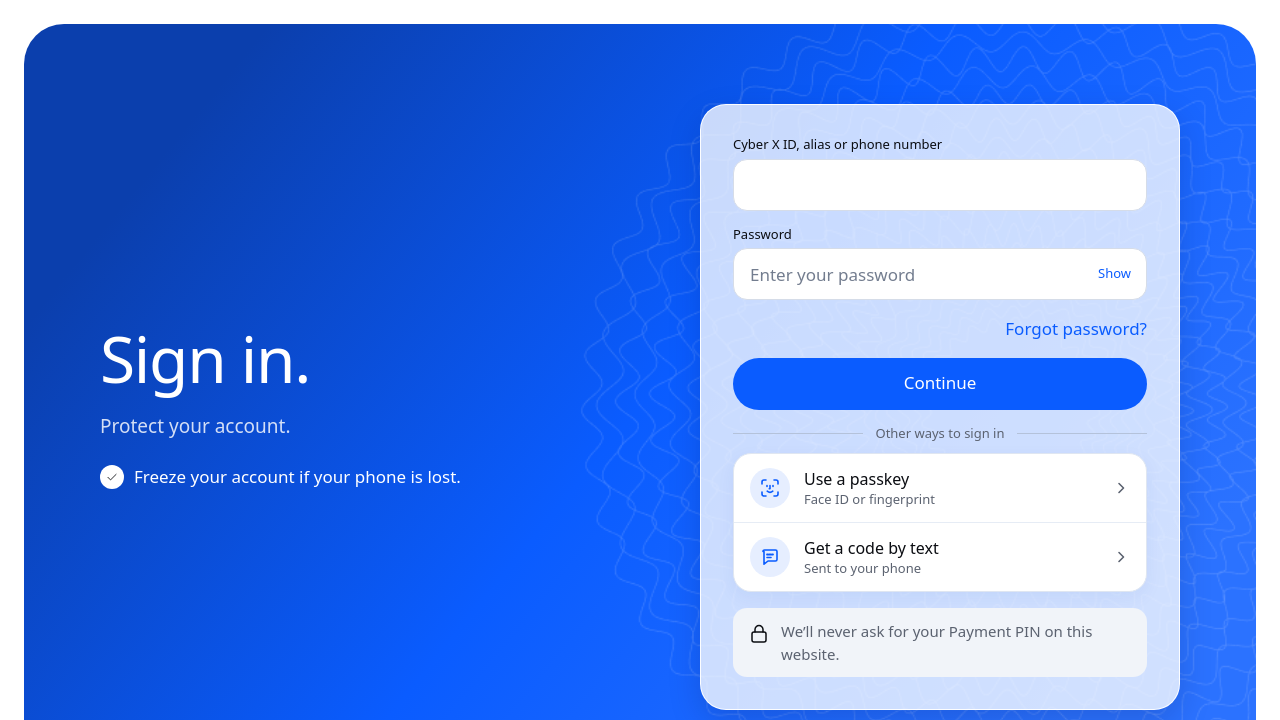
Test case: the sign-in card (W2.1) › resends a code, and goes back to the other ways
Type "0801 234 5678" into the field labelled "Cyber X ID, alias or phone number" at (940, 185), box [733, 159, 1147, 211]
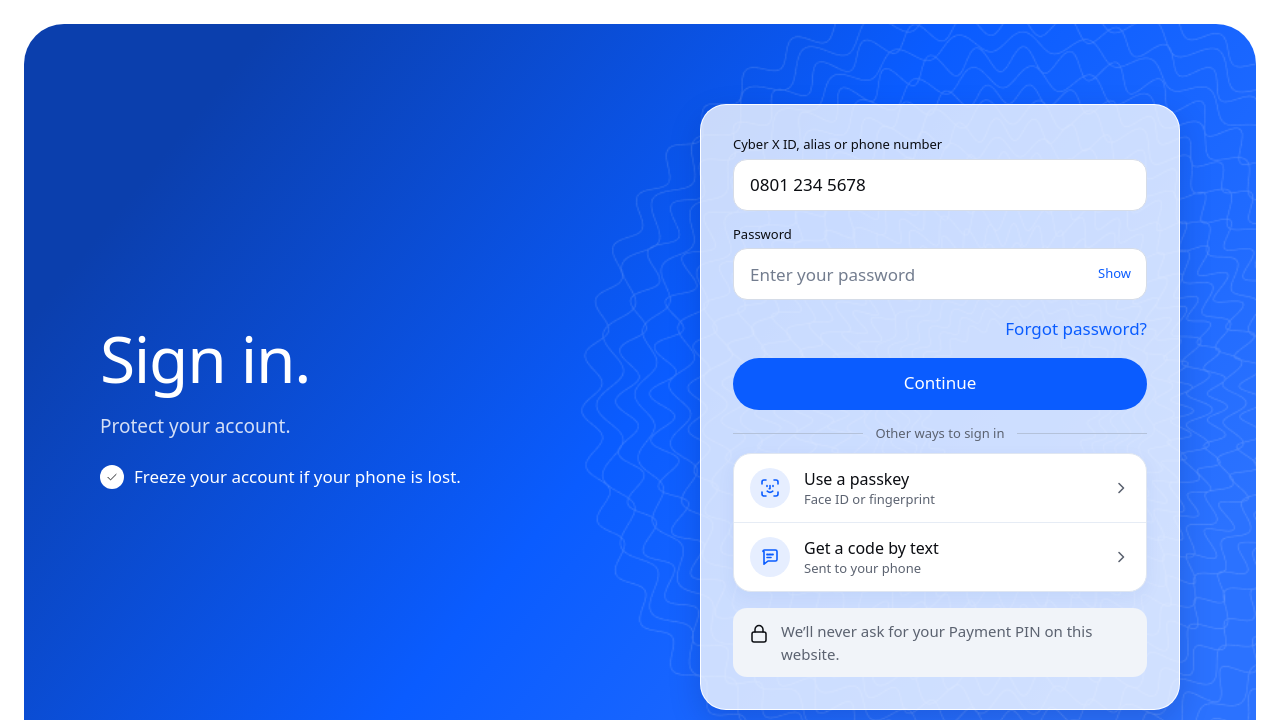
Click the button "Get a code by text Sent to your phone" at (940, 557), box [734, 523, 1146, 591]
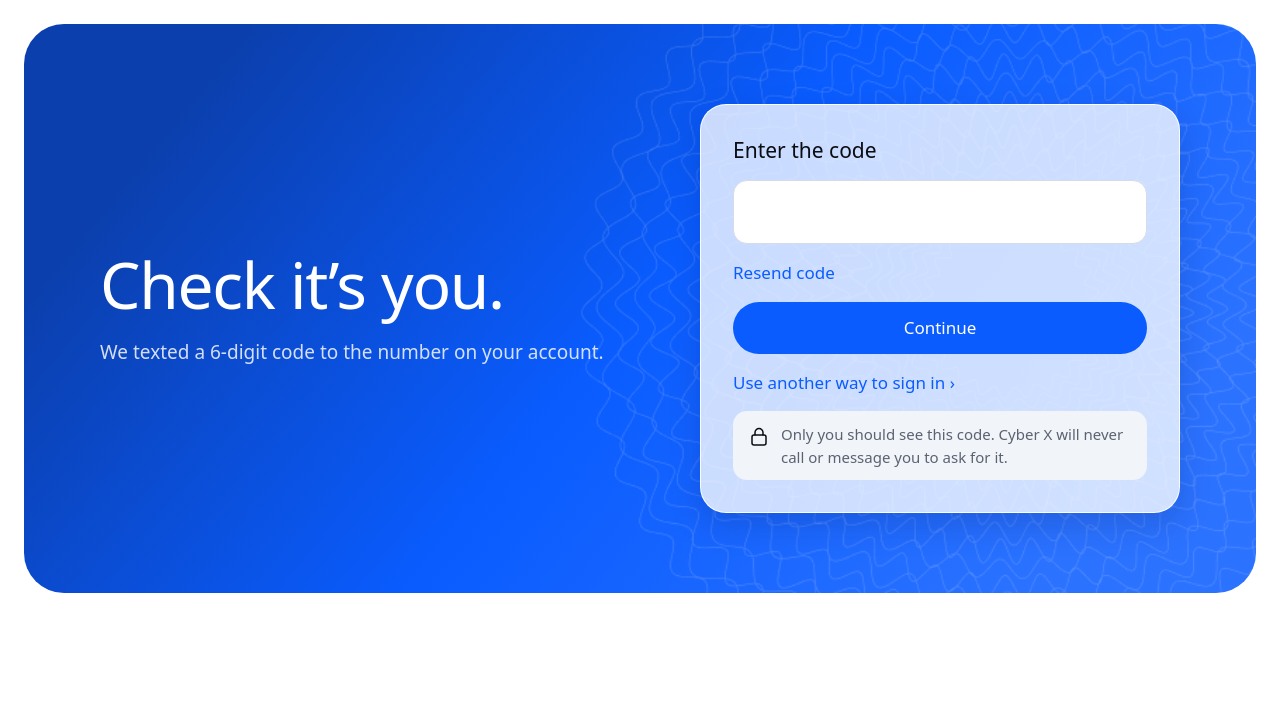
Now the text "We texted a 6-digit code to the number on your account." is shown, box [100, 338, 604, 366]
Click the button "Resend code" at (784, 273), box [733, 260, 835, 286]
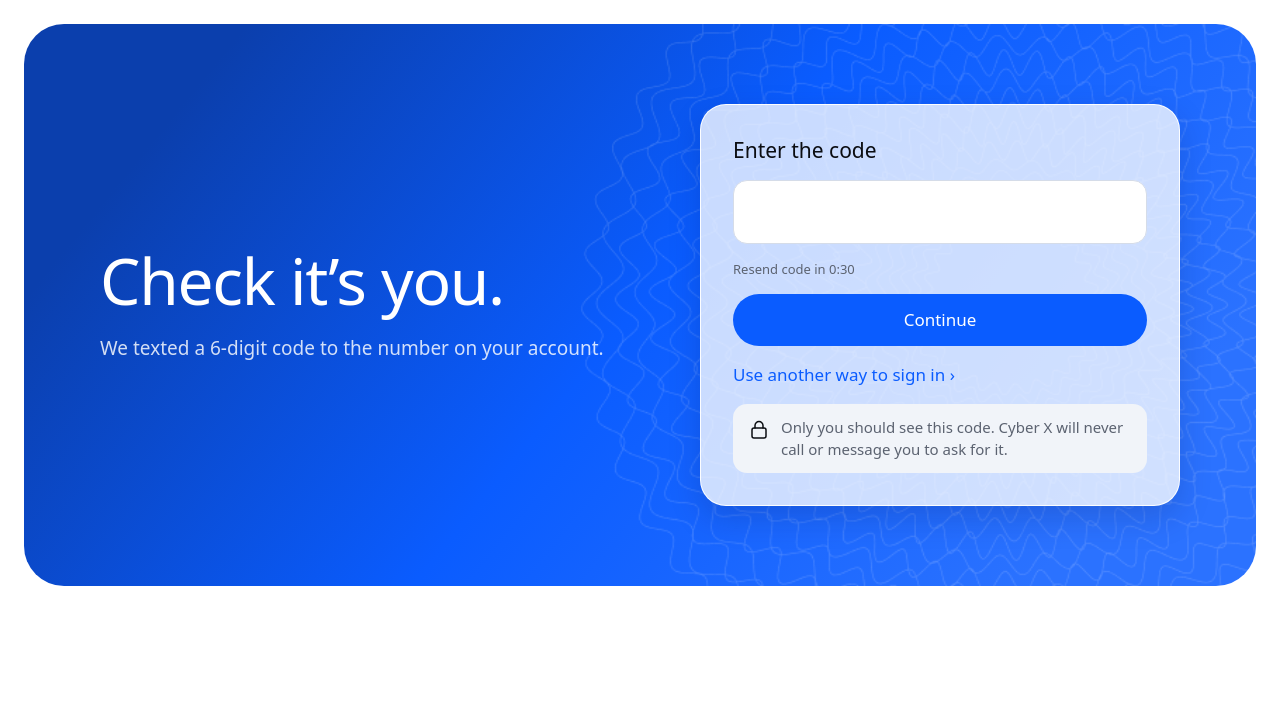
Now the text "Resend code in 0:30" is shown, box [733, 260, 855, 278]
Click the button "Use another way to sign in ›" at (844, 375), box [733, 362, 955, 388]
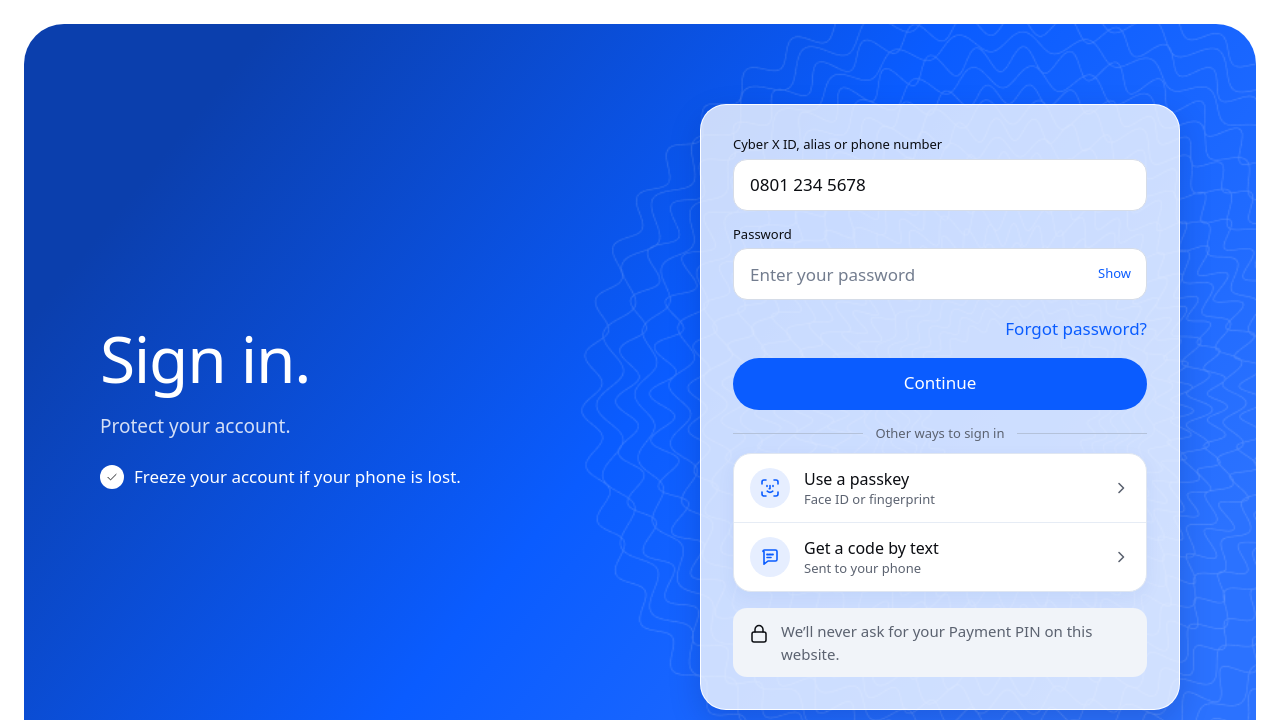
Now the heading "Sign in." is shown, box [100, 324, 310, 392]
